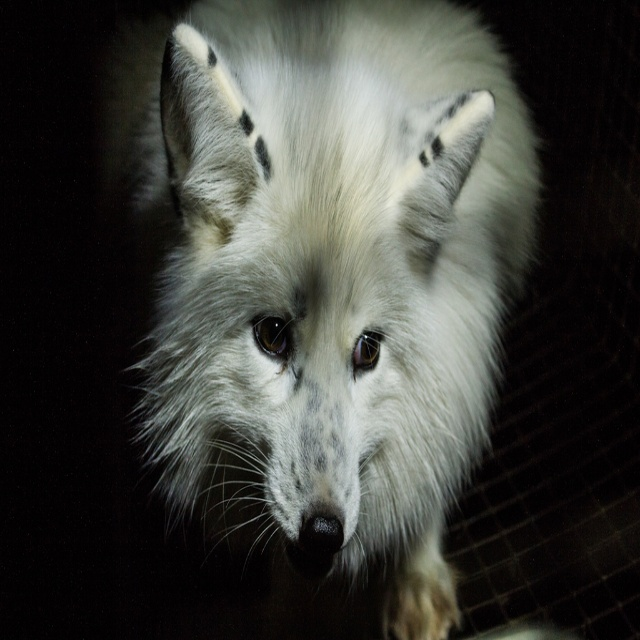Fox: (95, 0, 548, 640)
